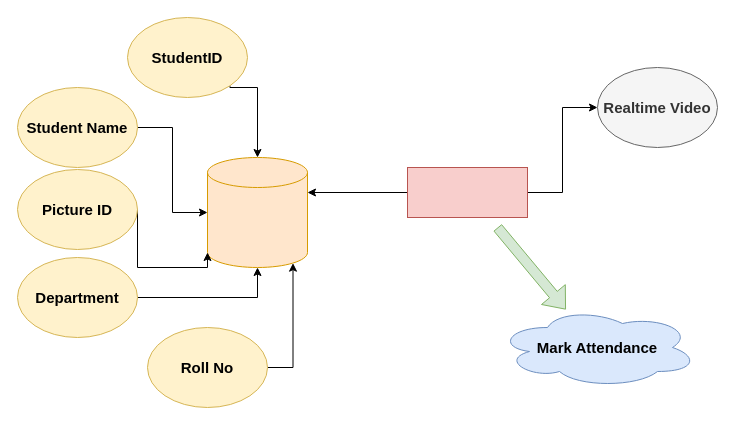
Some shapes in this 735 by 425 pixel diagram are drawn without their labels. The centre of each missing label's shape, as x and y in pixels:
"Face Recognition" goes at point 467,192.
"Student Database" goes at point 257,212.
